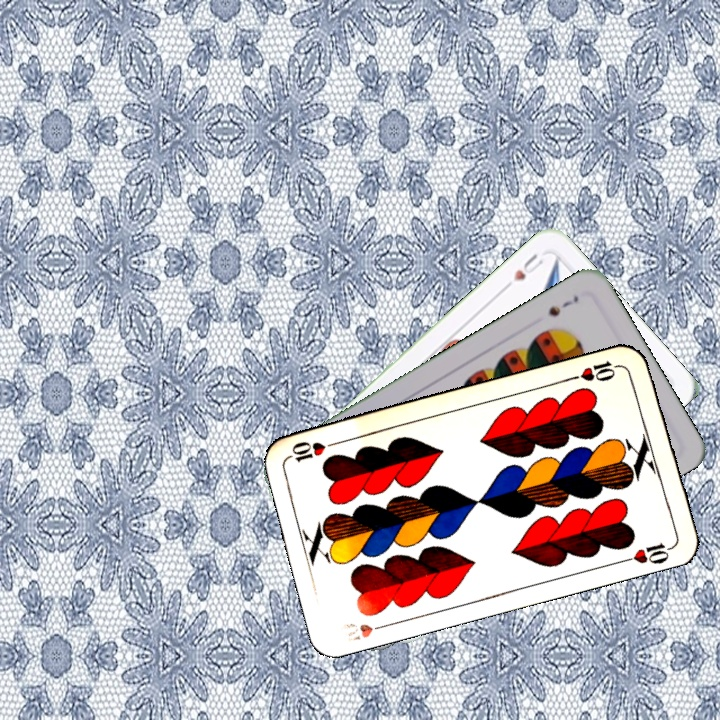H10: (566, 356, 625, 384), (336, 618, 394, 644)
HU: (508, 249, 547, 284)
S7: (544, 291, 582, 319)
